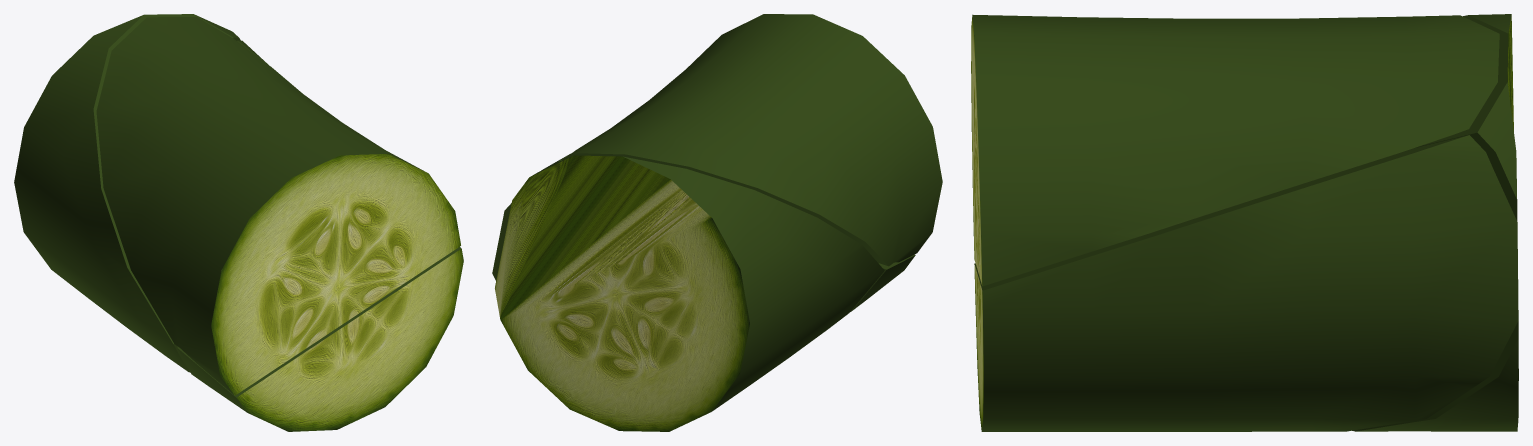
Rendered from cucumber.fbx.
3 renders of one model, left to right at view 1: azimuth 30°, elevation 25°; view 2: azimuth 150°, elevation 25°; view 3: azimuth 270°, elevation 25°, orthographic. The views are drawn at different scales.
Parts seen in each view (by area): view 1: Cucumber_cell, Cucumber_cell.002, Cucumber_cell.001; view 2: Cucumber_cell.002, Cucumber_cell, Cucumber_cell.001; view 3: Cucumber_cell.001, Cucumber_cell, Cucumber_cell.002.
Part boxes in pixels (x1,y1,x2,y2): Cucumber_cell: [96, 17, 460, 395]; Cucumber_cell.002: [14, 14, 240, 372]; Cucumber_cell.001: [177, 40, 463, 431]; Cucumber_cell.002: [495, 155, 884, 431]; Cucumber_cell: [562, 14, 942, 266]; Cucumber_cell.001: [492, 154, 915, 311]; Cucumber_cell.001: [974, 135, 1518, 431]; Cucumber_cell: [971, 14, 1499, 286]; Cucumber_cell.002: [1352, 14, 1518, 431].
Bounding box in the file's own units: 15.34 × 15.73 × 20.45.
